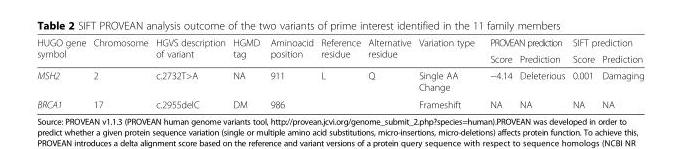table: (36, 36, 643, 109)
table column: (151, 36, 228, 109), (414, 36, 481, 109), (89, 36, 151, 109), (36, 36, 89, 109), (515, 36, 568, 109), (264, 36, 316, 109), (363, 36, 414, 109), (316, 36, 363, 109), (597, 36, 643, 109), (228, 36, 264, 109), (481, 36, 515, 109), (568, 36, 597, 109)
table column header: (36, 36, 643, 66)
table row: (36, 66, 643, 95), (36, 50, 643, 66), (36, 36, 643, 50), (36, 95, 643, 109)
table spanning cell: (151, 36, 228, 66), (414, 36, 481, 66), (89, 36, 151, 66), (36, 36, 89, 66), (264, 36, 316, 66), (363, 36, 414, 66), (316, 36, 363, 66), (481, 36, 568, 50), (228, 36, 264, 66), (568, 36, 643, 50)
